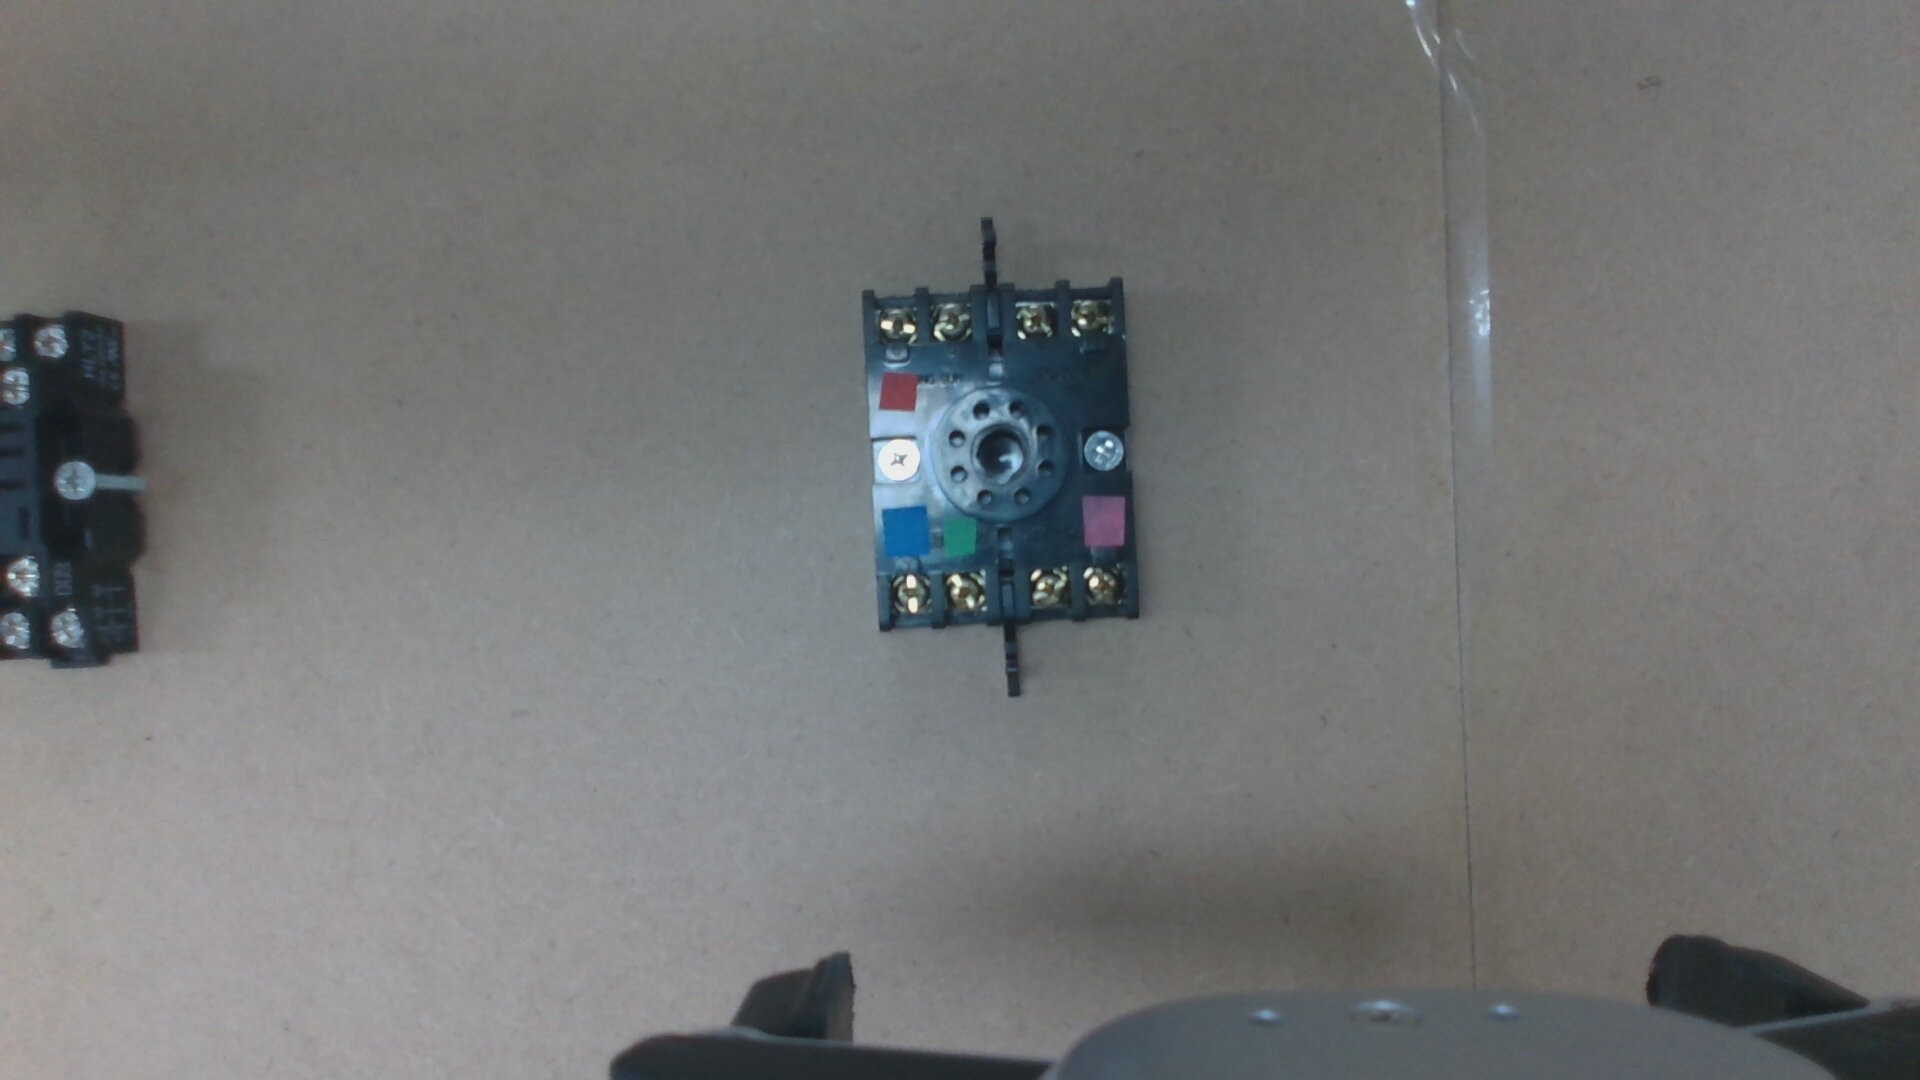timer 2: (1087, 567, 1124, 600)
timer 6: (878, 311, 914, 339)
timer 7: (891, 575, 928, 612)
timer 8: (945, 574, 984, 611)
